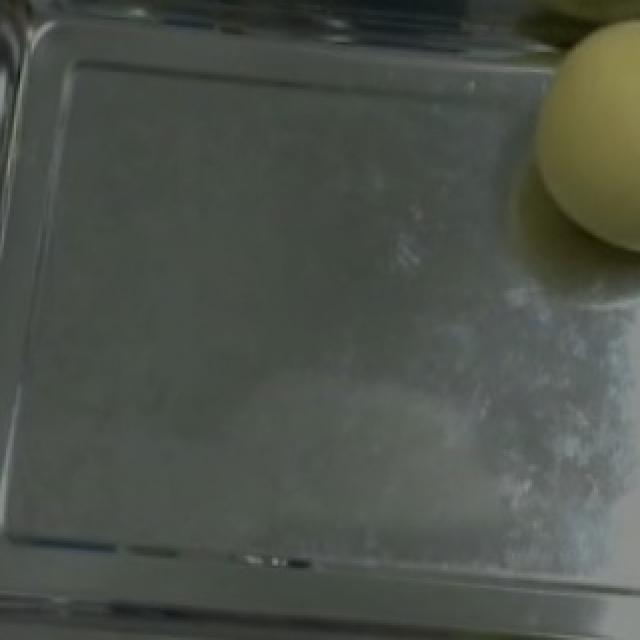Fruit: (506, 0, 640, 273)
